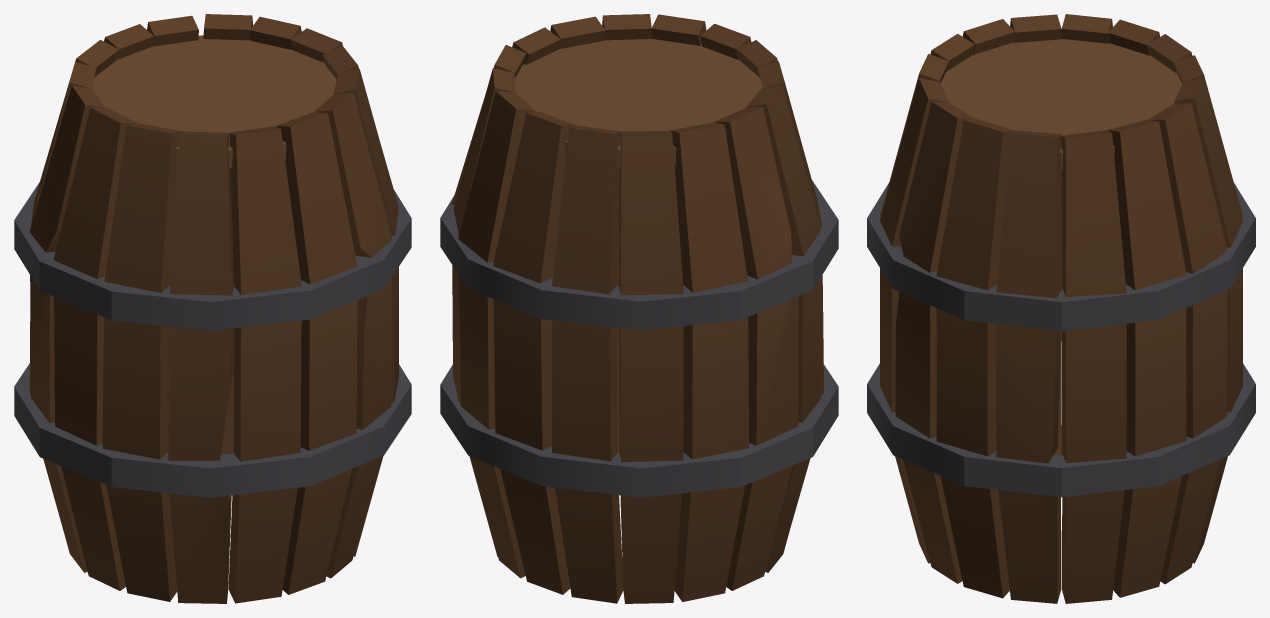
The model's file is barrel_2.fbx.
3 renders of one model, left to right at view 1: azimuth 30°, elevation 25°; view 2: azimuth 150°, elevation 25°; view 3: azimuth 270°, elevation 25°, orthographic.
Parts seen in each view (by area): view 1: barrel_2; view 2: barrel_2; view 3: barrel_2.
Part boxes in pixels (x1,y1,x2,y2): barrel_2: [14, 14, 411, 603]; barrel_2: [440, 14, 838, 603]; barrel_2: [867, 14, 1255, 603].
Bounding box in the file's own units: 148 × 192 × 145.
